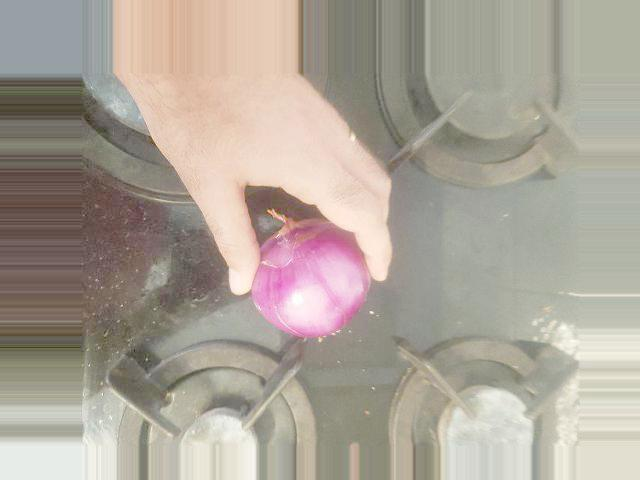onion: (353, 277, 467, 408)
